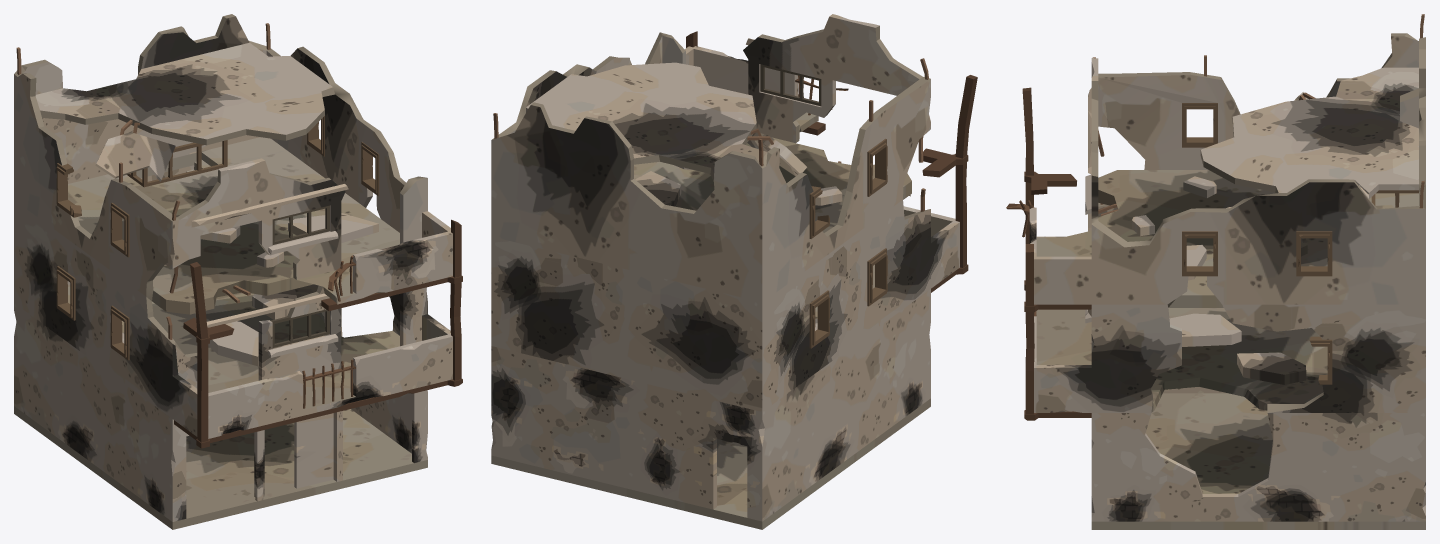
File: SM_Bld_Shop_04_Destroyed.glb
3 renders of one model, left to right at view 1: azimuth 30°, elevation 25°; view 2: azimuth 150°, elevation 25°; view 3: azimuth 270°, elevation 25°, orthographic. The views are drawn at different scales.
Visible parts, largest first — view 1: SM_Bld_Shop_04_Destroyed; view 2: SM_Bld_Shop_04_Destroyed; view 3: SM_Bld_Shop_04_Destroyed.
Boxes of the visible parts, x1=… form: SM_Bld_Shop_04_Destroyed: x1=14, y1=14, x2=462, y2=529; SM_Bld_Shop_04_Destroyed: x1=491, y1=14, x2=977, y2=529; SM_Bld_Shop_04_Destroyed: x1=1006, y1=14, x2=1425, y2=529.
Size of the model in its own units: 9.48 by 12.29 by 12.12.
Materials: 1 (1 with a texture image).
